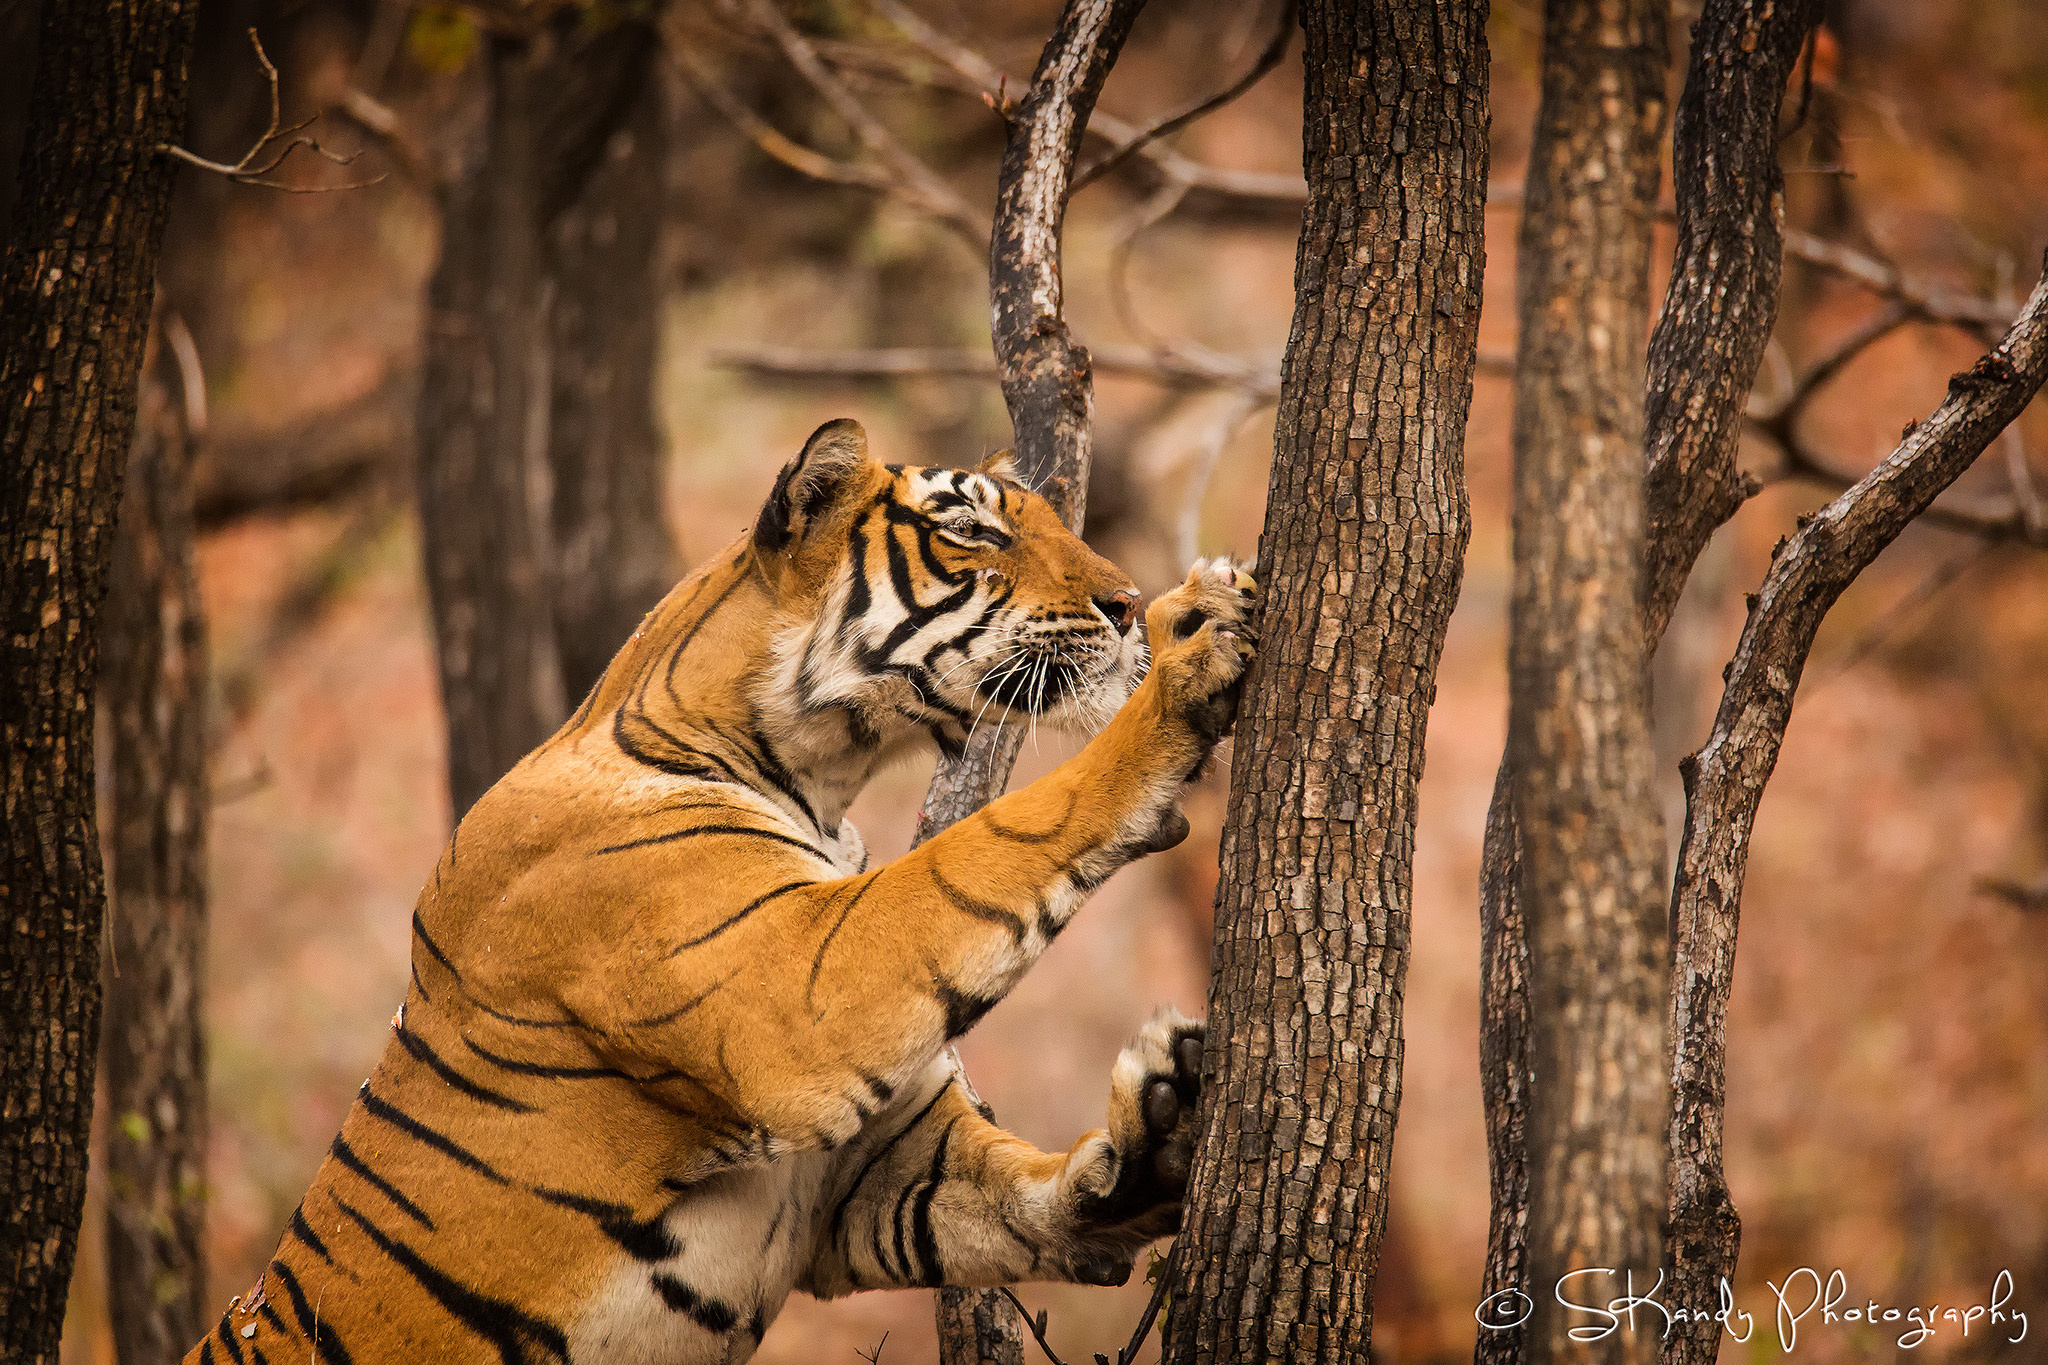tiger: (349, 439, 1317, 1280)
